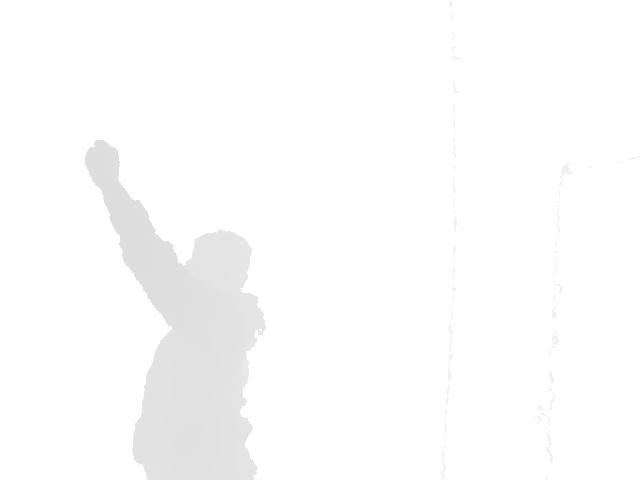hand: (83, 139, 121, 182)
head: (181, 228, 254, 296)
person: (84, 139, 268, 480)
